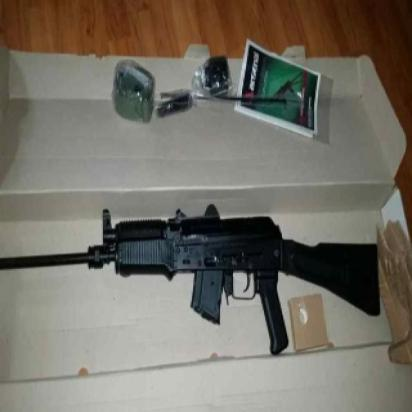Gun: (4, 206, 382, 355)
